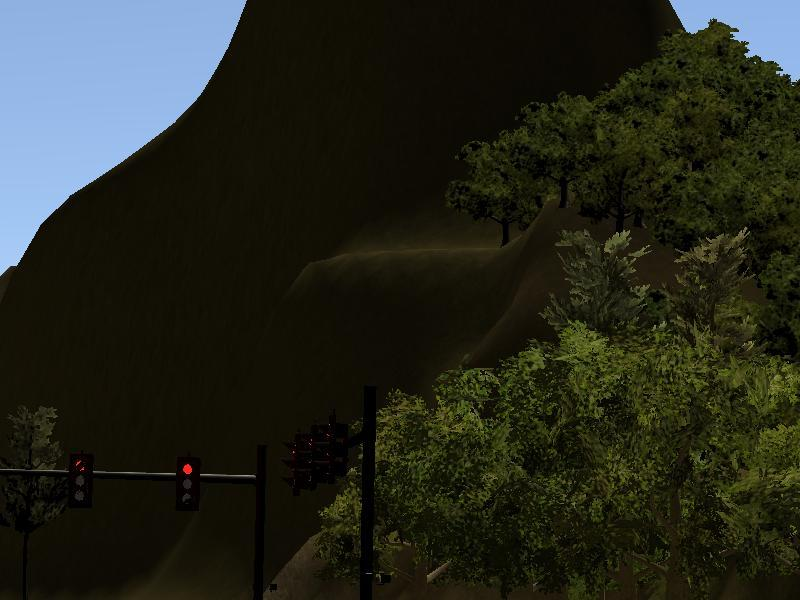Red: (179, 457, 199, 507), (71, 456, 91, 504)
